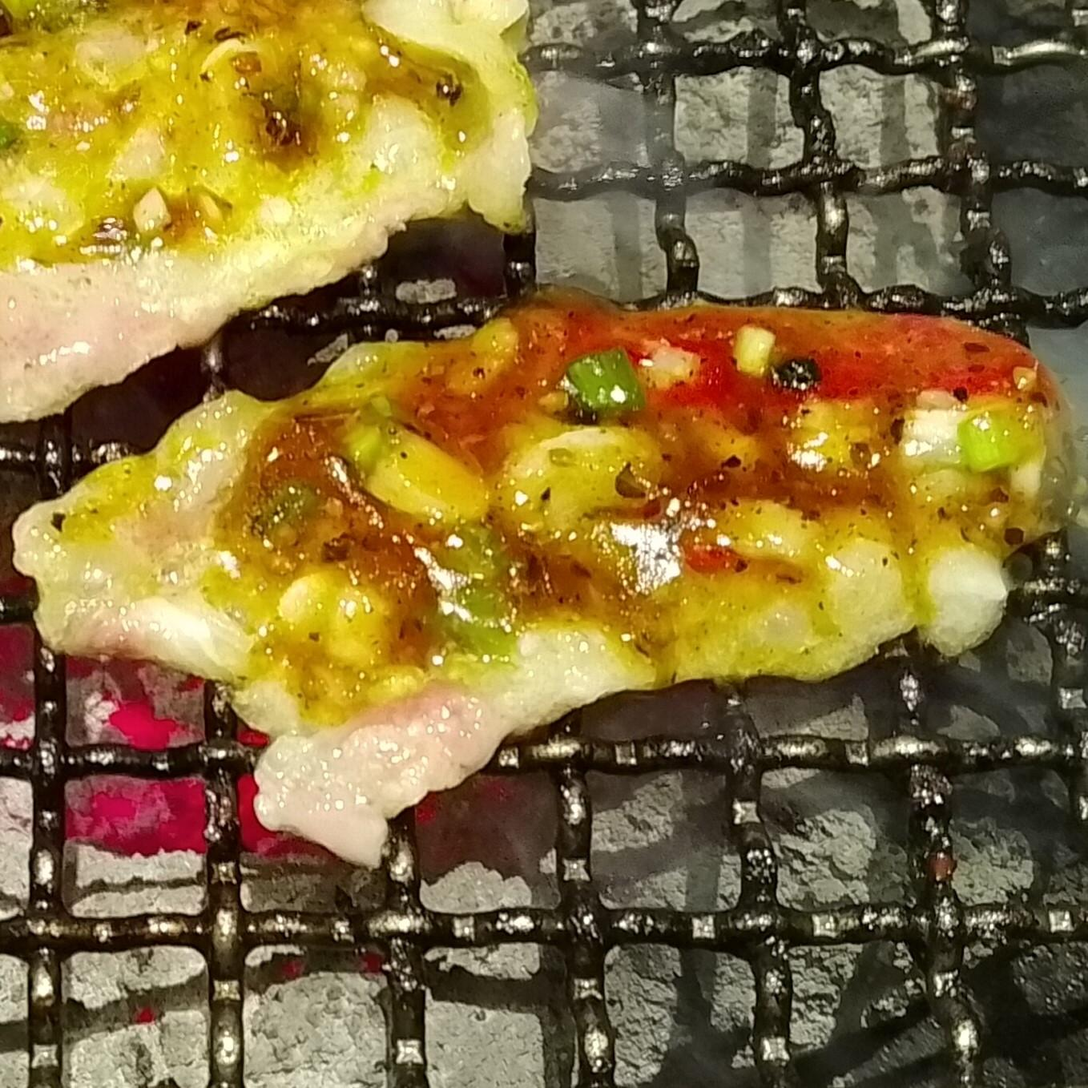Undercooked: (12, 299, 1076, 864), (0, 0, 538, 420)
